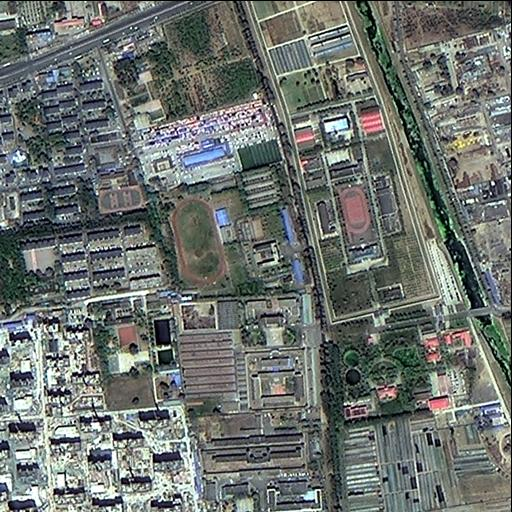school: (94, 164, 147, 215)
